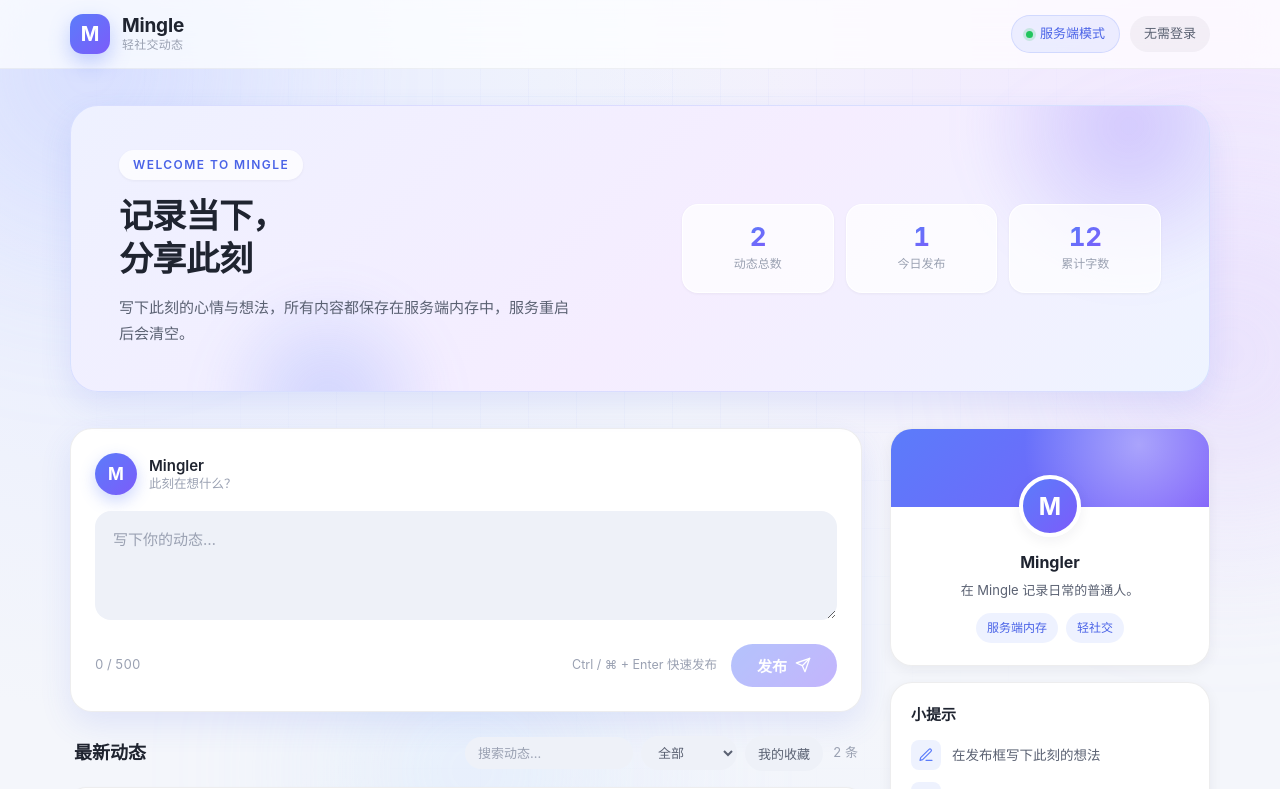
it: App › 时间范围筛选只保留窗口内的动态
The image size is (1280, 789).
Select "今天" in the dropdown with class "feed__select". click: (689, 753)
box: [641,736,737,770]
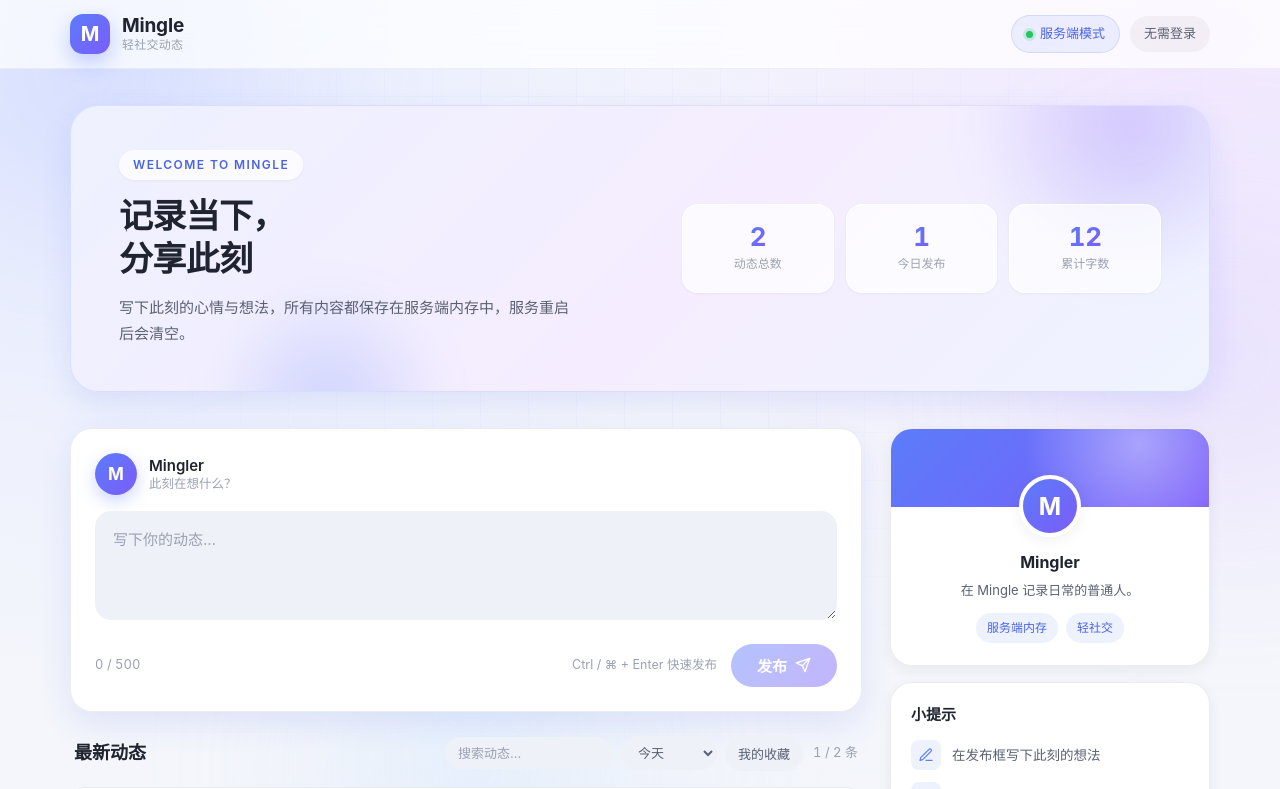
Expected: the text with class "feed__count" reads "1 / 2 条", [813,744,858,760]
